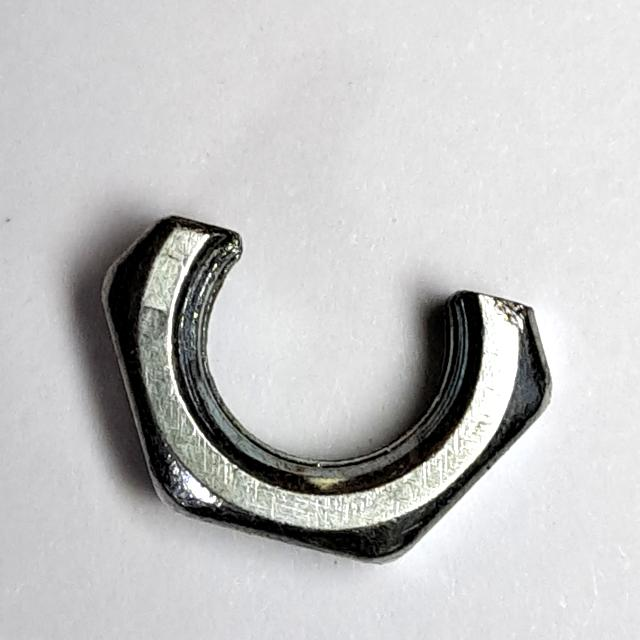Fracture: (89, 207, 580, 575)
